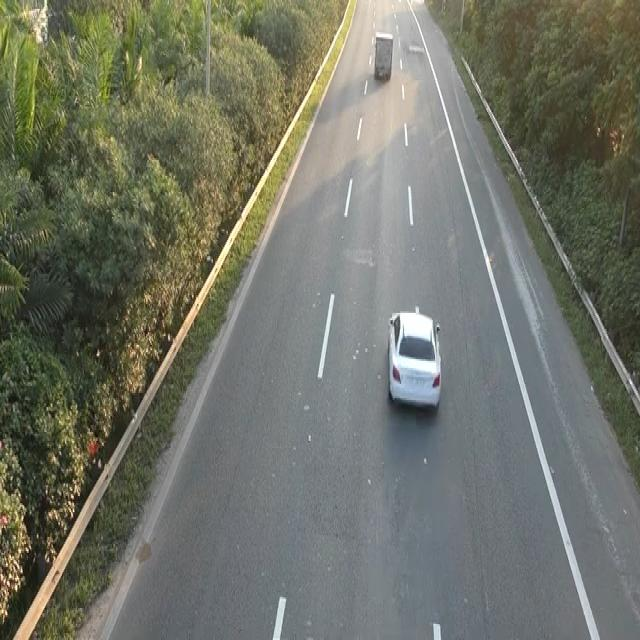bus: (384, 302, 444, 414)
minivan: (372, 28, 394, 82)
